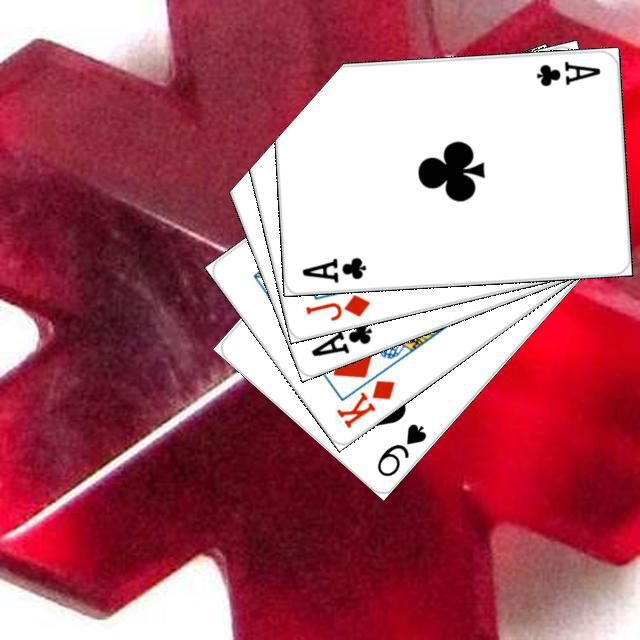9s: (371, 418, 428, 479)
Ac: (306, 317, 374, 358), (297, 252, 368, 285), (531, 56, 603, 88)
Jd: (300, 289, 372, 323)
Kd: (331, 374, 397, 431)
